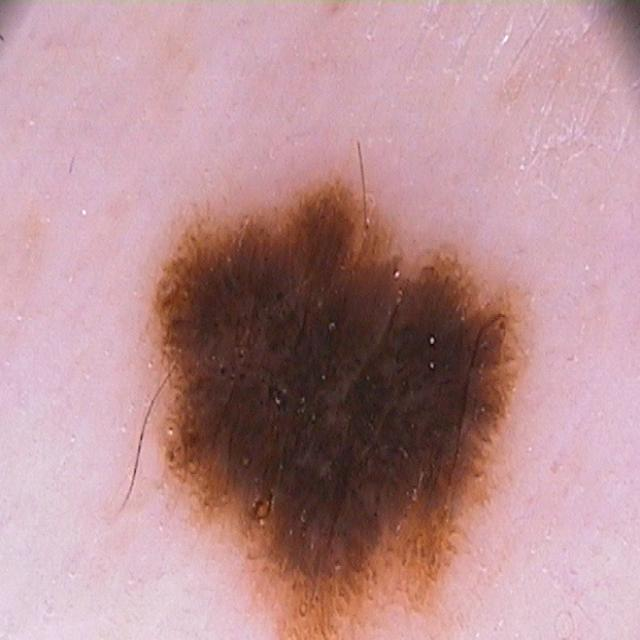Melanoma: (110, 169, 555, 608)
